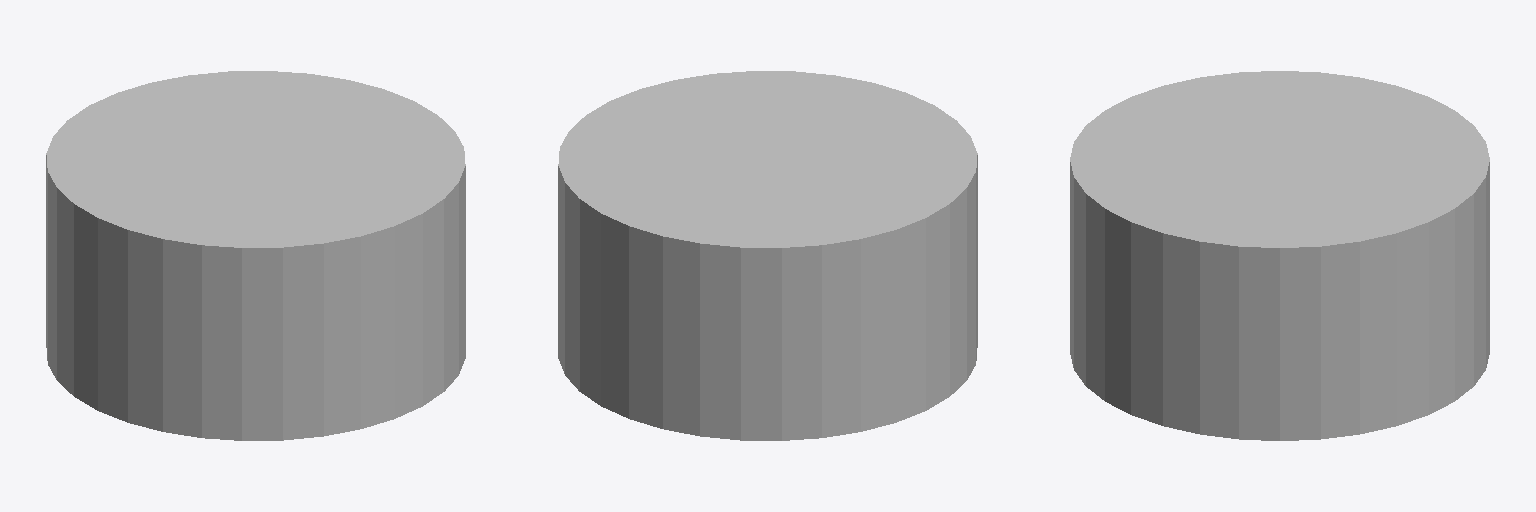
File: newdot.obj
3 views of the same model, side by side, from view 1: azimuth 30°, elevation 25°; view 2: azimuth 150°, elevation 25°; view 3: azimuth 270°, elevation 25° (orthographic).
Parts seen in each view (by area): view 1: Cylinder_Cylinder.001; view 2: Cylinder_Cylinder.001; view 3: Cylinder_Cylinder.001.
Part boxes in pixels (x1,y1,x2,y2): Cylinder_Cylinder.001: (46,71,465,440); Cylinder_Cylinder.001: (558,71,977,440); Cylinder_Cylinder.001: (1070,71,1489,440).
Bounding box in the file's own units: 0.402 × 0.2037 × 0.402.